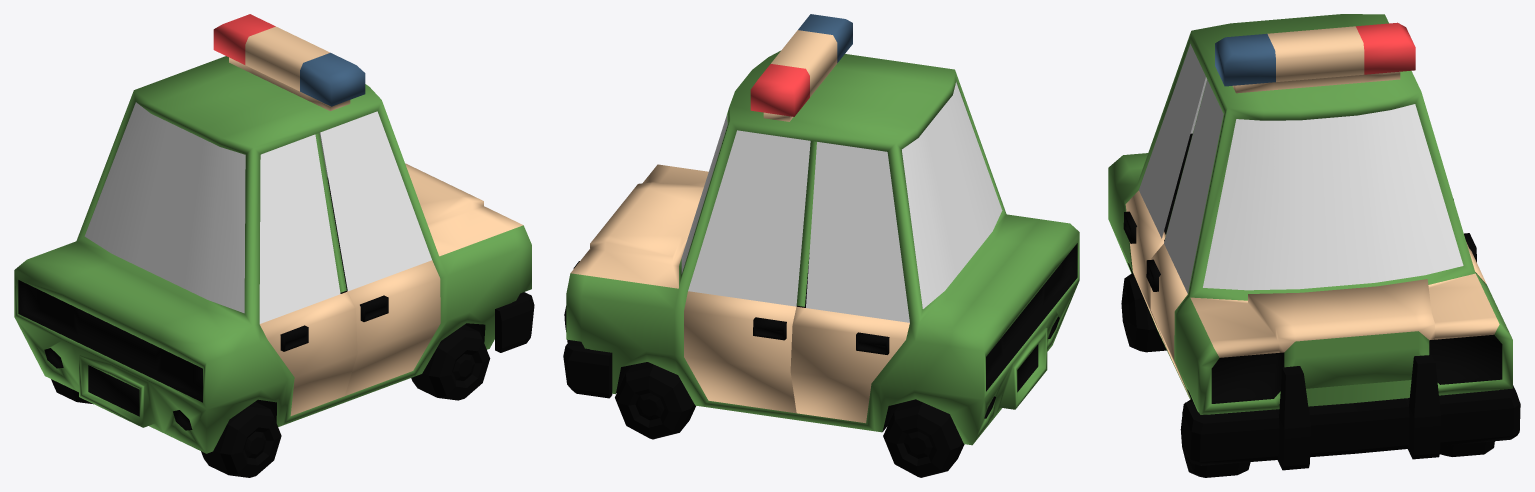
Rendered from ToyObject_150.fbx.
The picture shows the model from 3 angles, left to right: view 1: azimuth 30°, elevation 25°; view 2: azimuth 150°, elevation 25°; view 3: azimuth 270°, elevation 25°; orthographic projection. The views are drawn at different scales.
Visible parts, largest first — view 1: object-1.058; view 2: object-1.058; view 3: object-1.058.
Boxes of the visible parts, x1,y1,x2,y2 form: object-1.058: [14, 14, 534, 477]; object-1.058: [563, 14, 1079, 477]; object-1.058: [1108, 14, 1520, 477].
Bounding box in the file's own units: 0.1701 × 0.1314 × 0.1302.
